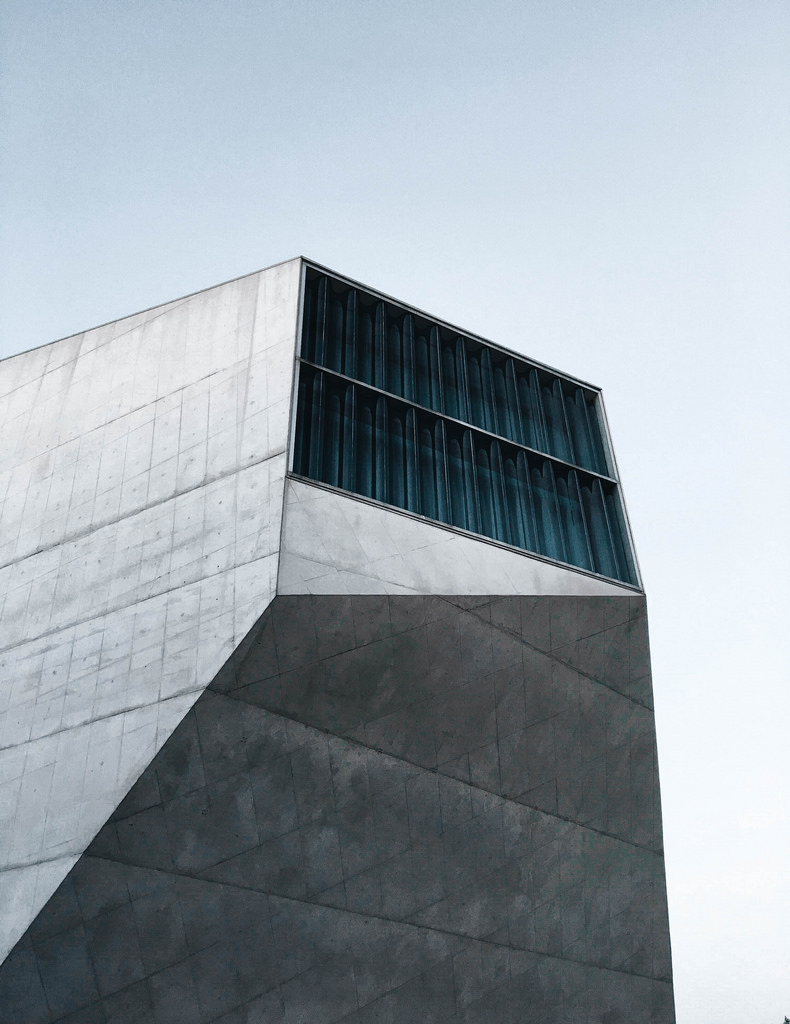musica: (0, 250, 678, 1023)
